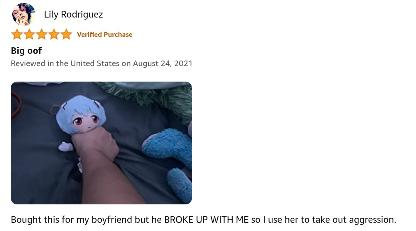rei-plush: (56, 93, 106, 134)
